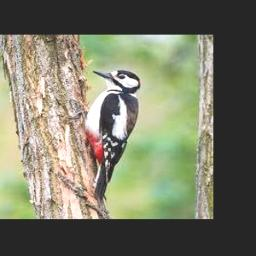Woodpecker: (84, 71, 141, 202)
